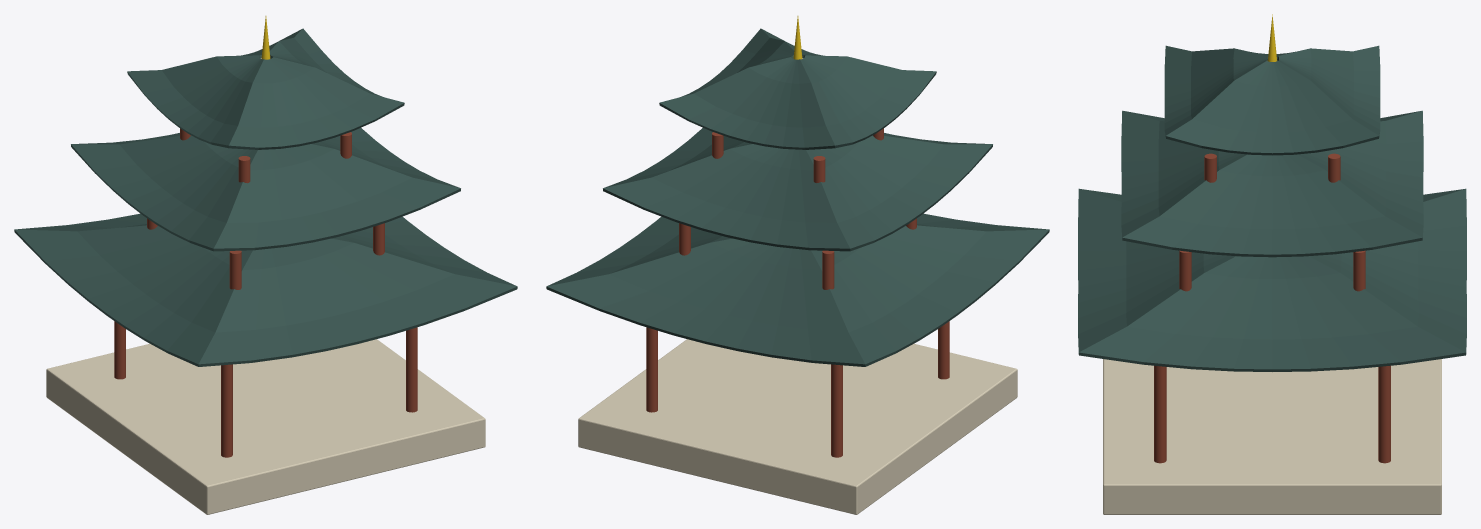
Rendered from garden-pagoda.glb.
The picture shows the model from 3 angles, left to right: view 1: azimuth 30°, elevation 25°; view 2: azimuth 150°, elevation 25°; view 3: azimuth 270°, elevation 25°; orthographic projection. The views are drawn at different scales.
Parts seen in each view (by area): view 1: DC_Mesh_DC_Roof, DC_Mesh_DC_Ivory, DC_Mesh_DC_Terracotta; view 2: DC_Mesh_DC_Roof, DC_Mesh_DC_Ivory, DC_Mesh_DC_Terracotta; view 3: DC_Mesh_DC_Roof, DC_Mesh_DC_Ivory, DC_Mesh_DC_Terracotta.
Part boxes in pixels (box(x1,y1,x2,y2)): DC_Mesh_DC_Roof: box(14, 28, 517, 366); DC_Mesh_DC_Ivory: box(46, 339, 485, 514); DC_Mesh_DC_Terracotta: box(114, 128, 417, 457); DC_Mesh_DC_Roof: box(546, 28, 1049, 366); DC_Mesh_DC_Ivory: box(578, 339, 1017, 514); DC_Mesh_DC_Terracotta: box(646, 128, 949, 457); DC_Mesh_DC_Roof: box(1078, 45, 1466, 371); DC_Mesh_DC_Ivory: box(1103, 359, 1441, 514); DC_Mesh_DC_Terracotta: box(1154, 153, 1390, 463).
Size of the model in its own units: 8.04 by 9.8 by 8.04.
